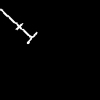double_crochet: (0, 9, 36, 43)
